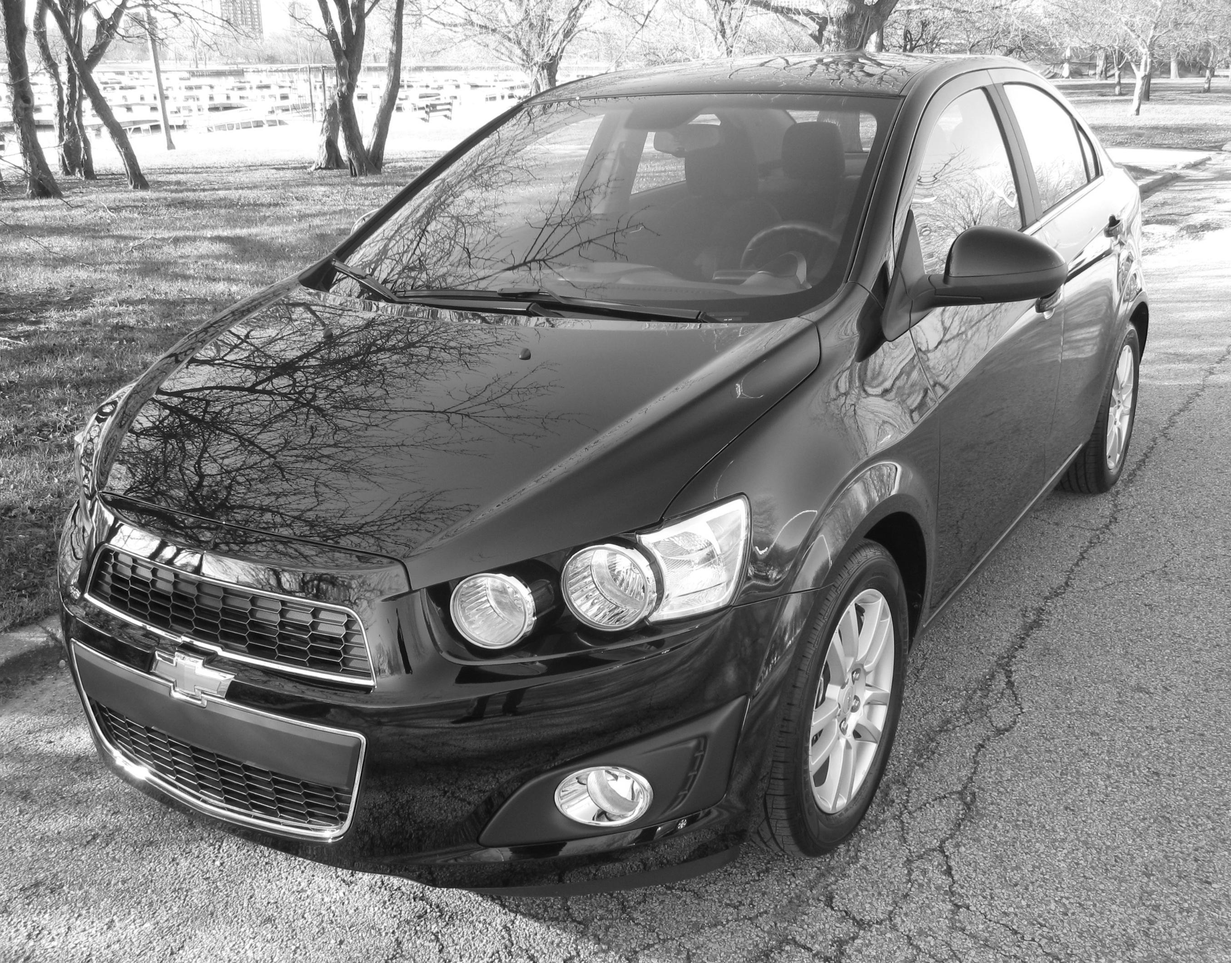car: (58, 46, 1154, 891)
